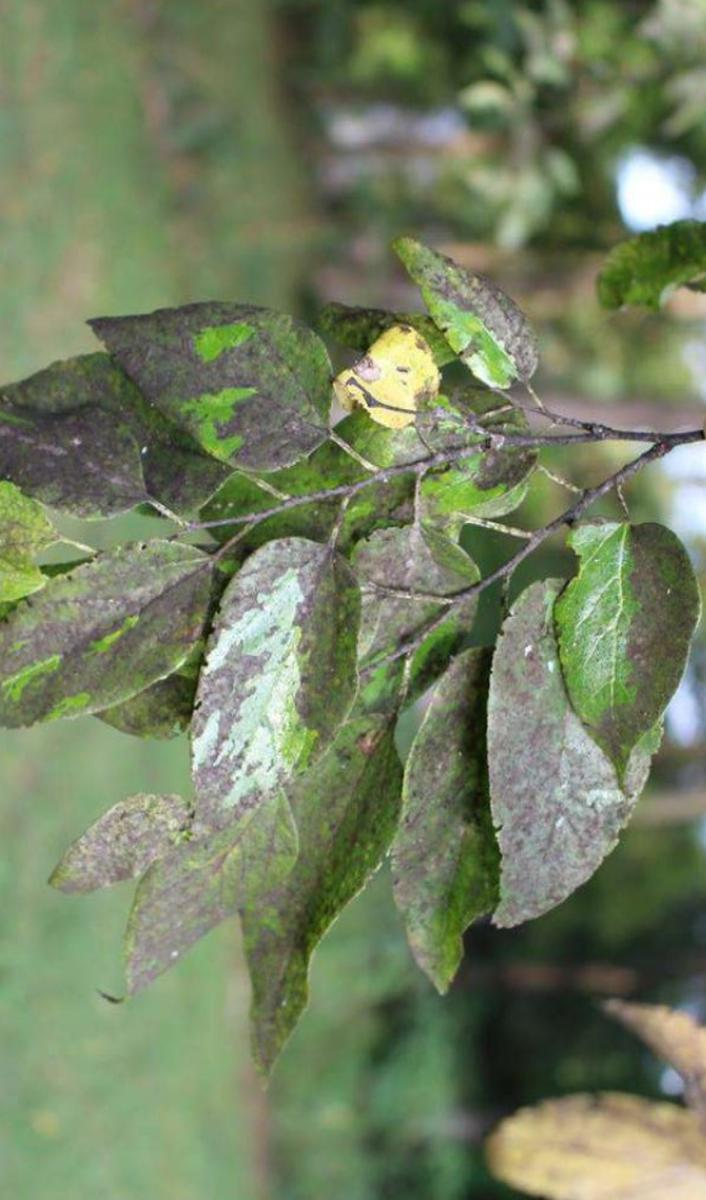soot dew: (491, 572, 659, 916), (240, 715, 401, 1073), (90, 302, 334, 470), (0, 539, 208, 727), (392, 649, 498, 993), (126, 793, 298, 994), (213, 545, 355, 763), (595, 524, 694, 774), (88, 355, 227, 513), (351, 523, 479, 662), (3, 398, 150, 515), (50, 793, 193, 892), (440, 257, 534, 382), (194, 646, 267, 743), (182, 747, 251, 843), (6, 359, 107, 414)
